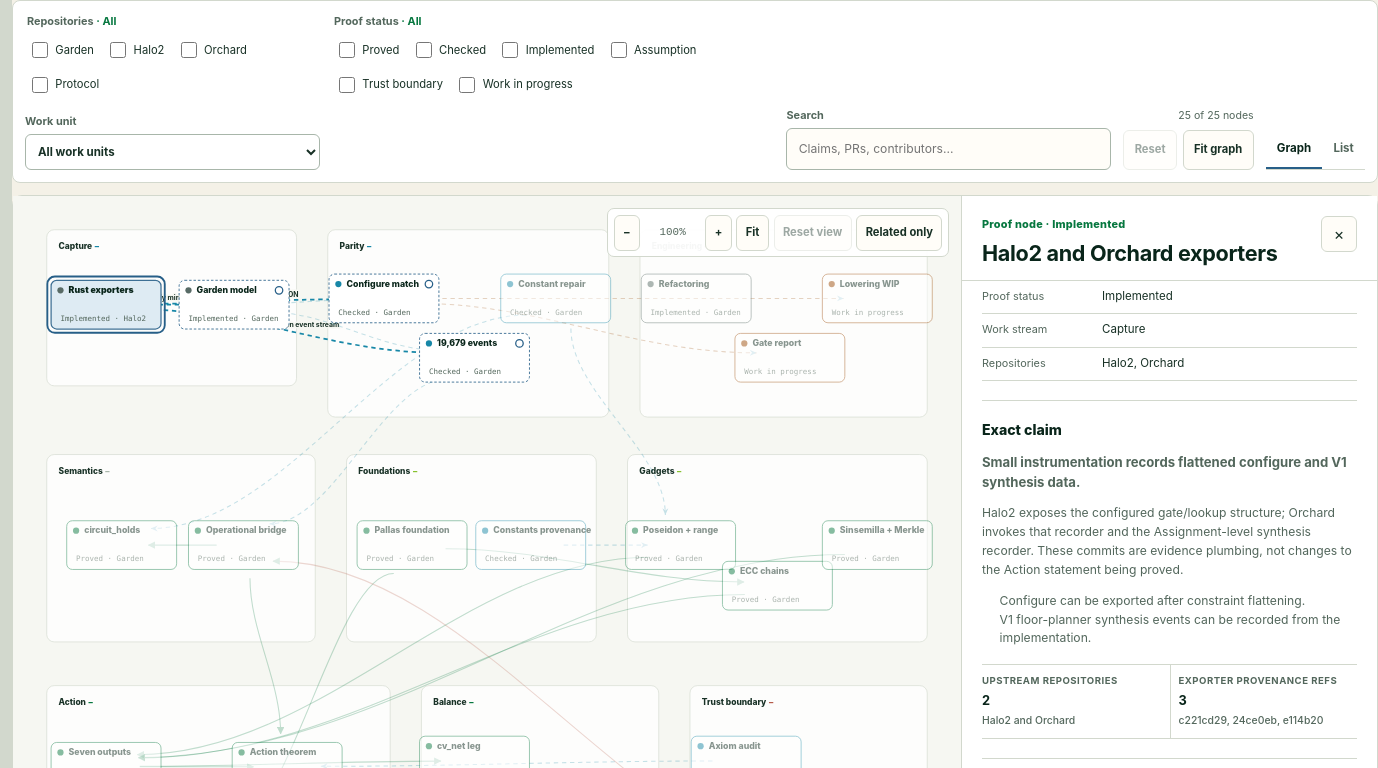
proof atlas interactions › opens a hash-selected node and retains its inspector outside later filters
expect the heading "Halo2 and Orchard exporters" is shown: met, box [982,241,1278,266]
Click the checkbox labelled "Proved" at (347, 50), box [339,42,355,58]
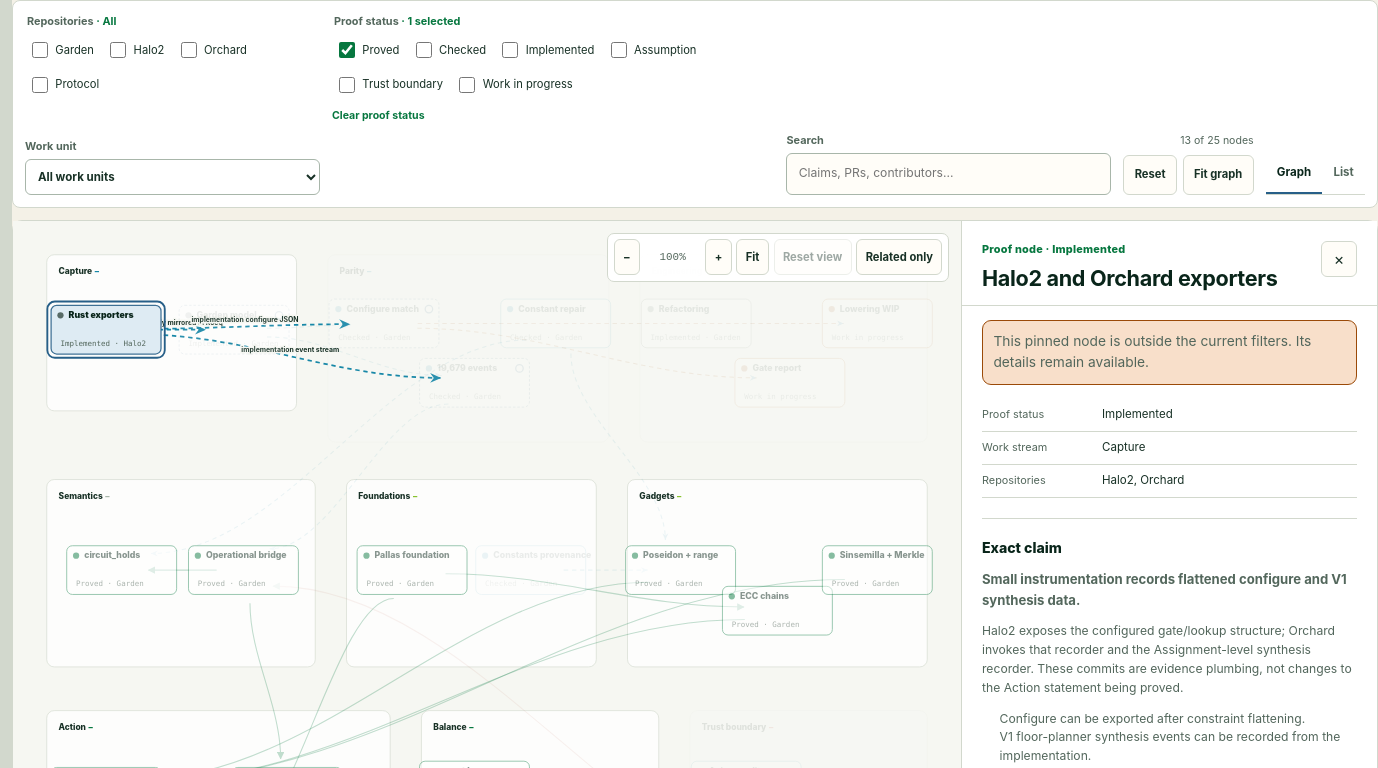
expect the heading "Halo2 and Orchard exporters" is shown: met, box [982,266,1278,290]
expect the text "pinned node is outside the current filters" is shown: met, box [993,333,1311,370]
